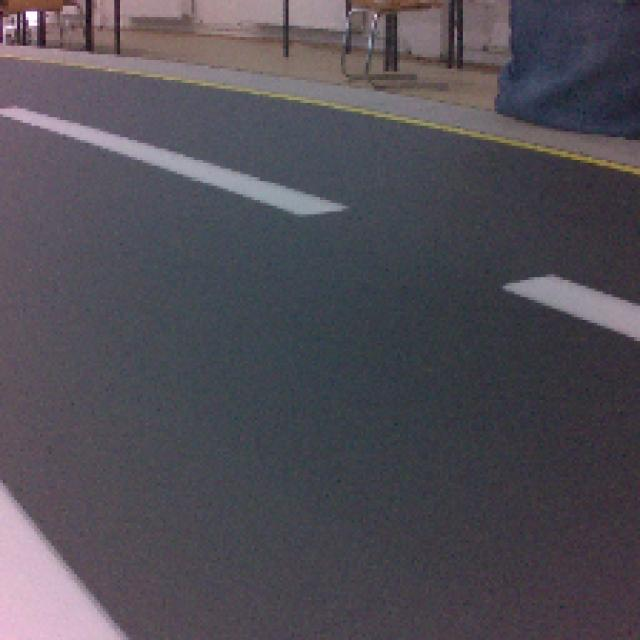Guard rail: (2, 487, 140, 640)
